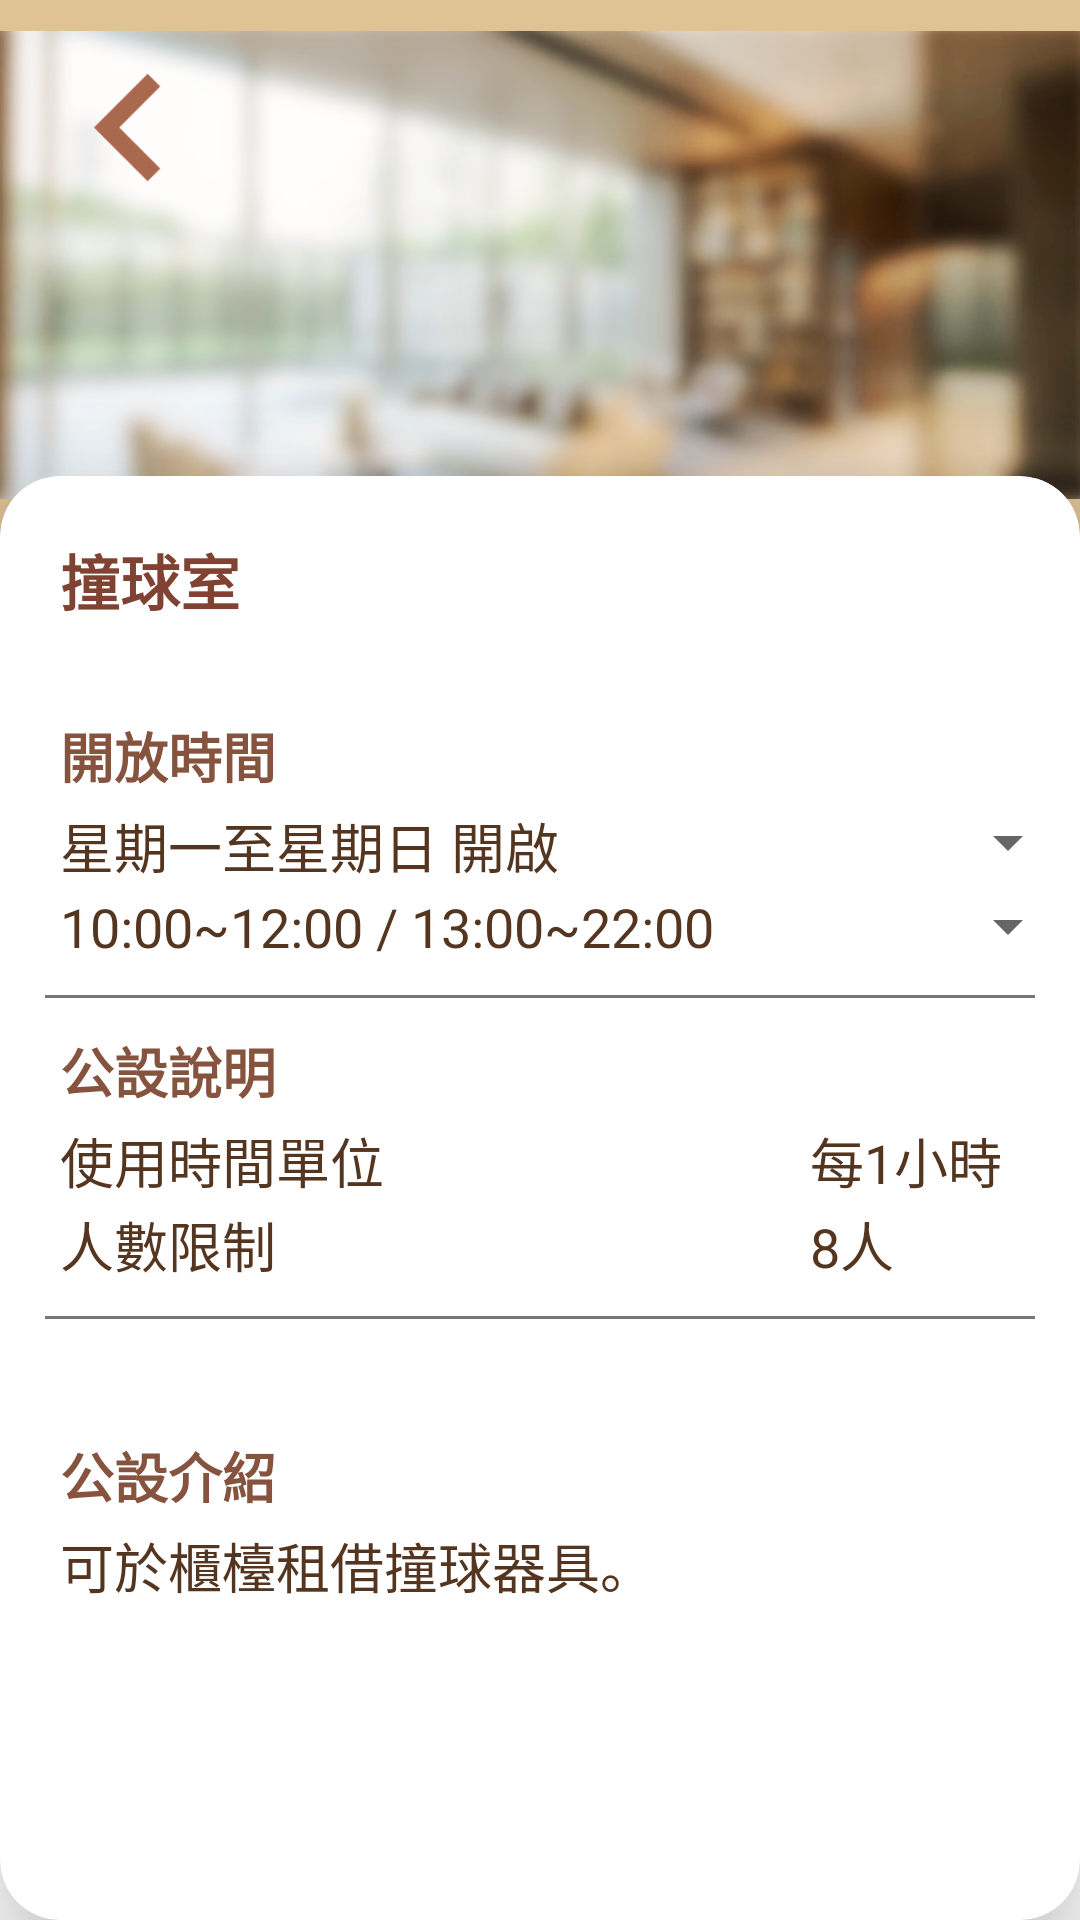

Icons on this 1080*1920 Android screen, each with the point to tap as point (x, y):
previous page: point (127, 127)
